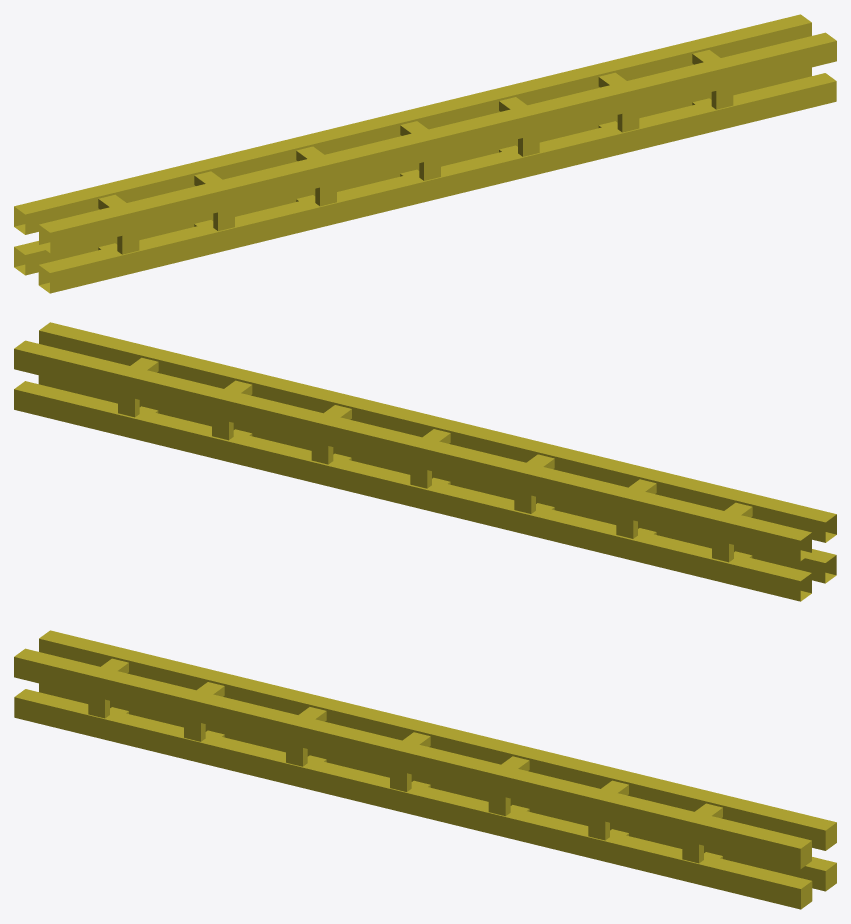
The model's file is metal_support_2.fbx.
3 views of the same model, one above another, from view 1: azimuth 30°, elevation 25°; view 2: azimuth 150°, elevation 25°; view 3: azimuth 330°, elevation 25° (orthographic).
Visible parts, largest first — view 1: boczny_metal.005; view 2: boczny_metal.005; view 3: boczny_metal.005.
Part boxes in pixels (x1=…): boczny_metal.005: x1=14, y1=14, x2=836, y2=293; boczny_metal.005: x1=14, y1=322, x2=836, y2=601; boczny_metal.005: x1=14, y1=630, x2=836, y2=909.
Size of the model in its own units: 2.43 by 0.1797 by 0.1935.
